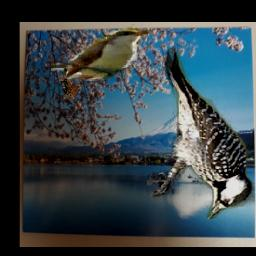Cuckoo: (50, 25, 154, 82)
Sparrow: (61, 77, 81, 100)
Woodpecker: (147, 48, 253, 220)
